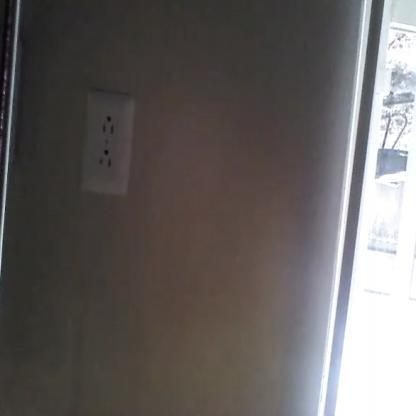OUTLET: (80, 92, 134, 198)
